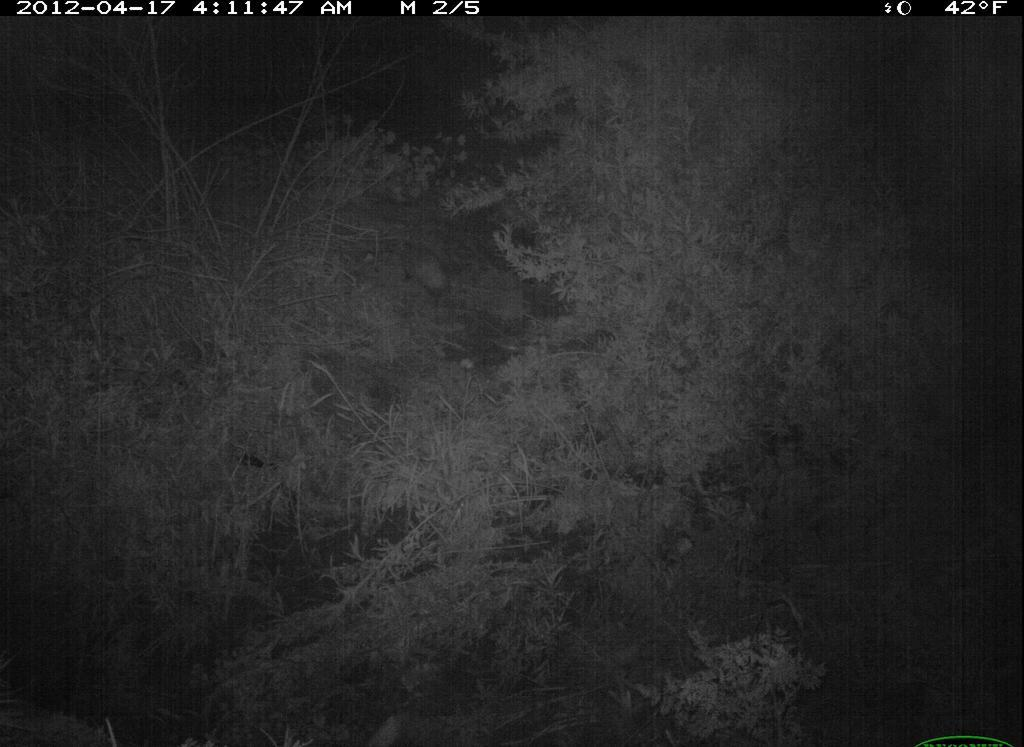opossum: (383, 223, 469, 326)
